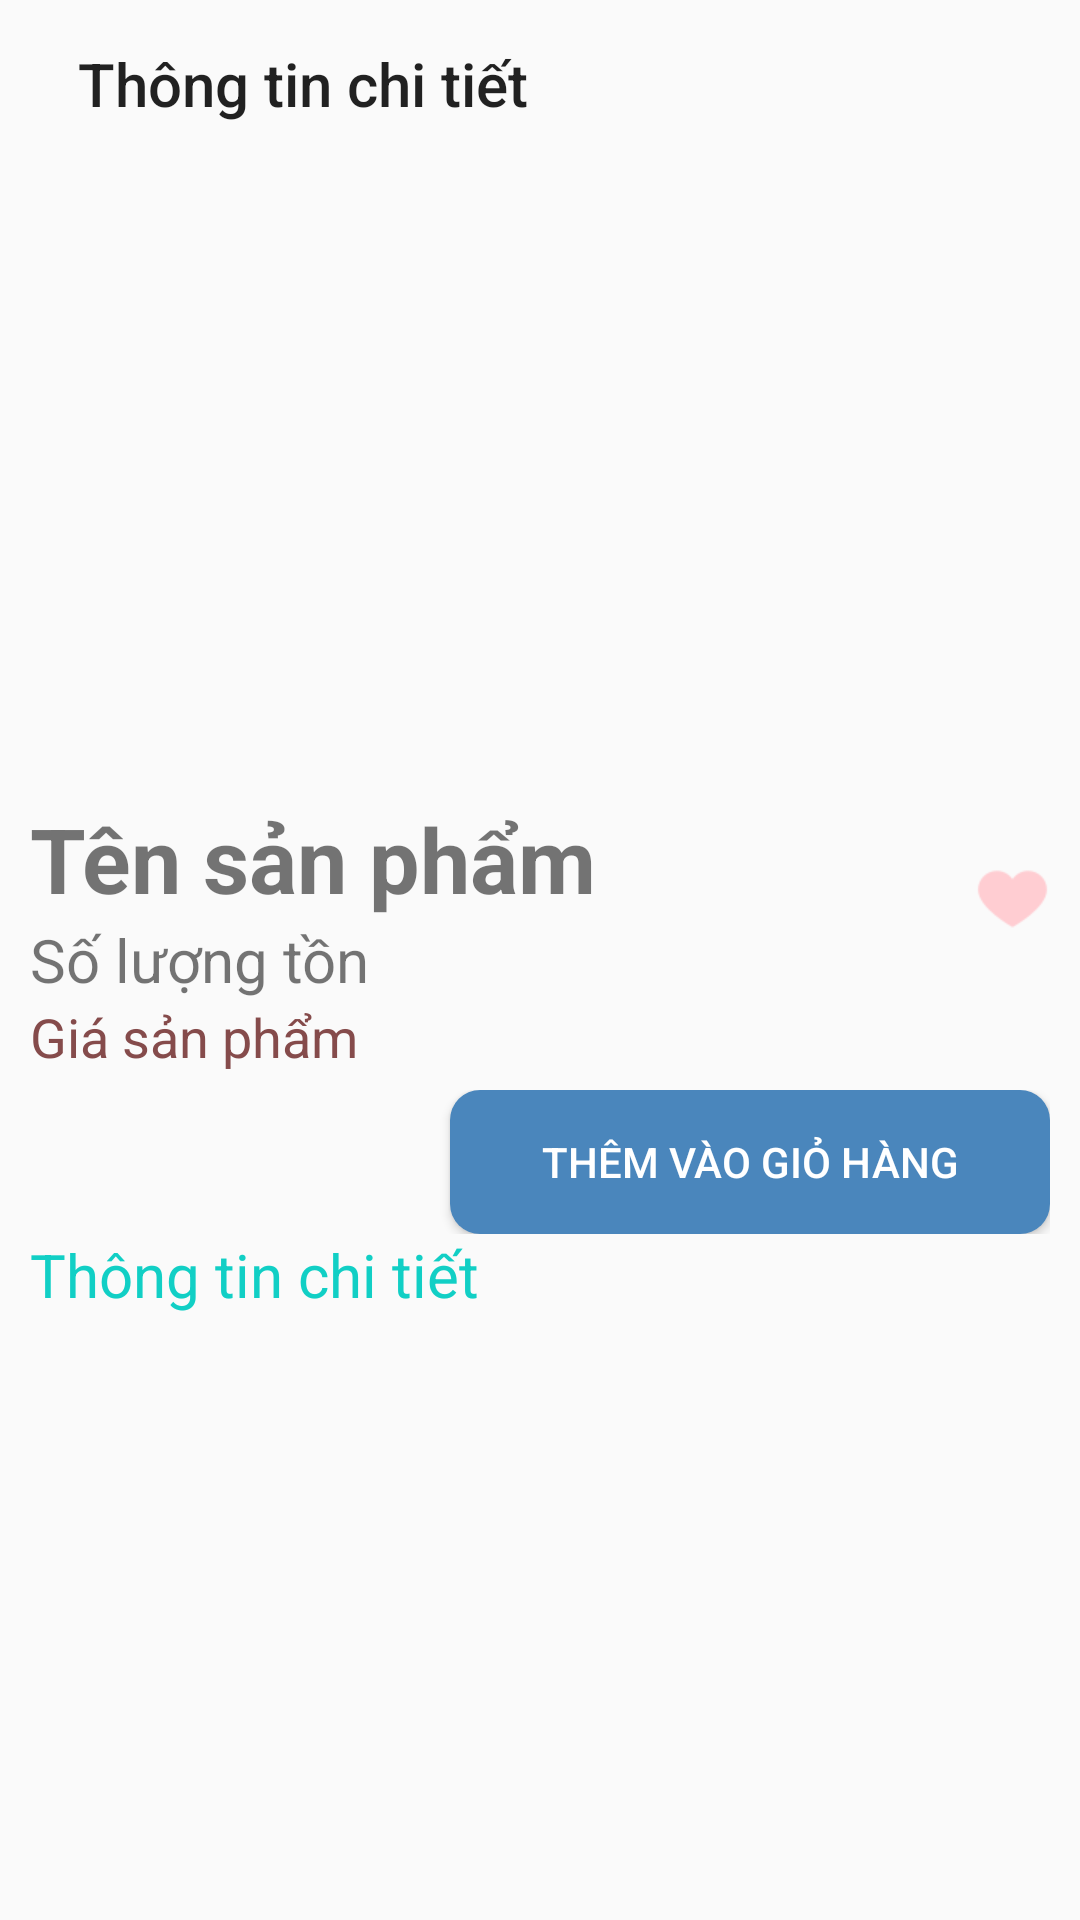

Locate icon controls on the screen. Image size 1080 × 1920, boxes as bbox=(x1, y1, x2, y2).
heart: bbox=(978, 871, 1047, 927)
